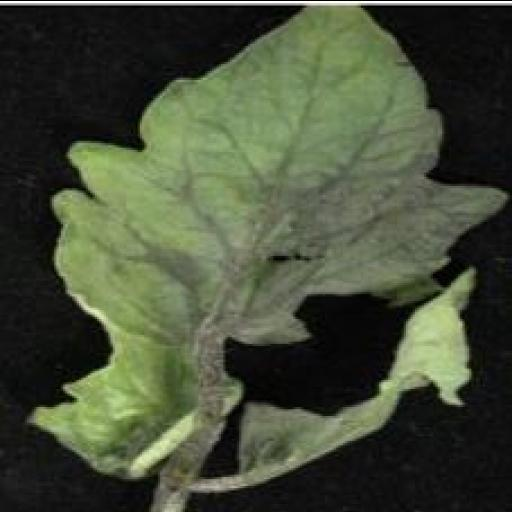Late Blight: (31, 7, 512, 483)
